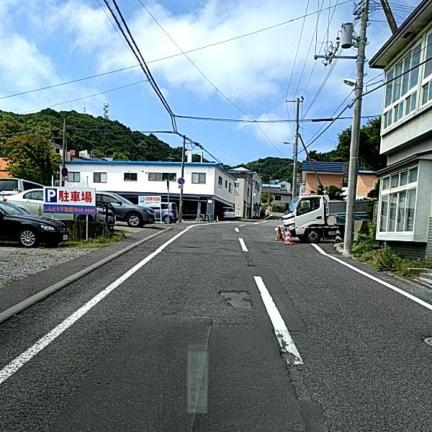Road: (0, 221, 431, 431)
